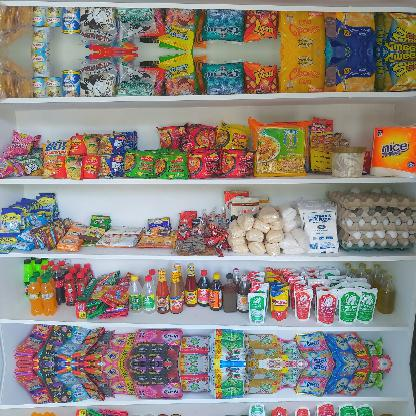Lady-s-Choice: (330, 146, 366, 178)
